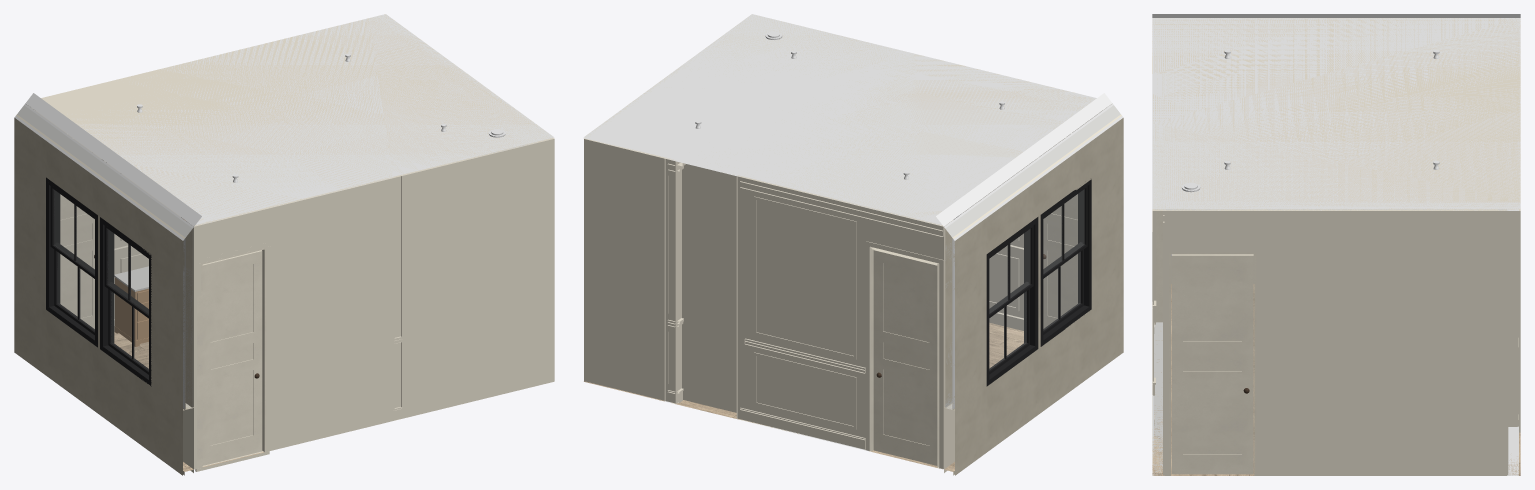
Rendered from green-bedroom-fe07c8cd8c1f.glb.
3 views of the same model, side by side, from view 1: azimuth 30°, elevation 25°; view 2: azimuth 150°, elevation 25°; view 3: azimuth 270°, elevation 25° (orthographic). The views are drawn at different scales.
Parts seen in each view (by area): view 1: green-bedroom-eb02897c2e79e2b1, green-bedroom-e8793759323e04f0, green-bedroom-9d91b47435c6fb33, green-bedroom-312b4ac1be39223d, green-bedroom-7406100458e293ce, green-bedroom-33ee0b466567e5f0, green-bedroom-eea30be35ce76d8a, green-bedroom-b27266f3159d5f34, green-bedroom-5e646f76b0244fe8, green-bedroom-39b94aca90fa4b53, green-bedroom-3a4d9d62ecd7be1c, green-bedroom-442e5a19ed849720 (+5 smaller); view 2: green-bedroom-9d91b47435c6fb33, green-bedroom-b6ab44e8ab2b63f4, green-bedroom-8d8280a2b3ef8b4c, green-bedroom-312b4ac1be39223d, green-bedroom-e8793759323e04f0, green-bedroom-689020e0fc226264, green-bedroom-5e646f76b0244fe8, green-bedroom-33ee0b466567e5f0, green-bedroom-eea30be35ce76d8a, green-bedroom-b27266f3159d5f34, green-bedroom-7406100458e293ce, green-bedroom-4fe5579be934d30a (+9 smaller); view 3: green-bedroom-64efeecf845bccca, green-bedroom-9d91b47435c6fb33, green-bedroom-e8793759323e04f0, green-bedroom-b50904fb6ee0544e, green-bedroom-eb02897c2e79e2b1, green-bedroom-689020e0fc226264, green-bedroom-34287d1b870c745c, green-bedroom-2575515a05775d9e, green-bedroom-442e5a19ed849720, green-bedroom-8d8280a2b3ef8b4c, green-bedroom-4fe5579be934d30a.
Part boxes in pixels (x1,y1,x2,y2): green-bedroom-eb02897c2e79e2b1: [188, 139, 554, 469]; green-bedroom-e8793759323e04f0: [27, 14, 552, 224]; green-bedroom-9d91b47435c6fb33: [25, 14, 554, 226]; green-bedroom-312b4ac1be39223d: [14, 116, 184, 409]; green-bedroom-7406100458e293ce: [202, 250, 262, 465]; green-bedroom-33ee0b466567e5f0: [14, 287, 193, 475]; green-bedroom-eea30be35ce76d8a: [46, 177, 97, 347]; green-bedroom-b27266f3159d5f34: [100, 217, 151, 386]; green-bedroom-5e646f76b0244fe8: [60, 138, 100, 328]; green-bedroom-39b94aca90fa4b53: [17, 105, 192, 409]; green-bedroom-3a4d9d62ecd7be1c: [24, 103, 193, 407]; green-bedroom-442e5a19ed849720: [201, 247, 266, 467]; green-bedroom-9d91b47435c6fb33: [583, 14, 1112, 226]; green-bedroom-b6ab44e8ab2b63f4: [736, 176, 949, 469]; green-bedroom-8d8280a2b3ef8b4c: [584, 138, 681, 403]; green-bedroom-312b4ac1be39223d: [953, 116, 1123, 409]; green-bedroom-e8793759323e04f0: [585, 15, 1110, 224]; green-bedroom-689020e0fc226264: [676, 160, 737, 418]; green-bedroom-5e646f76b0244fe8: [873, 250, 937, 465]; green-bedroom-33ee0b466567e5f0: [944, 287, 1123, 475]; green-bedroom-eea30be35ce76d8a: [986, 217, 1038, 386]; green-bedroom-b27266f3159d5f34: [1040, 179, 1091, 346]; green-bedroom-7406100458e293ce: [1039, 137, 1077, 328]; green-bedroom-4fe5579be934d30a: [664, 158, 676, 403]; green-bedroom-64efeecf845bccca: [1163, 209, 1508, 475]; green-bedroom-9d91b47435c6fb33: [1152, 18, 1520, 210]; green-bedroom-e8793759323e04f0: [1152, 14, 1520, 209]; green-bedroom-b50904fb6ee0544e: [1171, 254, 1253, 474]; green-bedroom-eb02897c2e79e2b1: [1152, 209, 1164, 475]; green-bedroom-689020e0fc226264: [1508, 211, 1518, 426]; green-bedroom-34287d1b870c745c: [1169, 252, 1256, 475]; green-bedroom-2575515a05775d9e: [1152, 284, 1520, 475]; green-bedroom-442e5a19ed849720: [1156, 211, 1162, 322]; green-bedroom-8d8280a2b3ef8b4c: [1507, 209, 1518, 475]; green-bedroom-4fe5579be934d30a: [1519, 211, 1520, 432].
Size of the model in its own units: 4.64 by 3.04 by 3.65.
32 materials, 5 textured.
